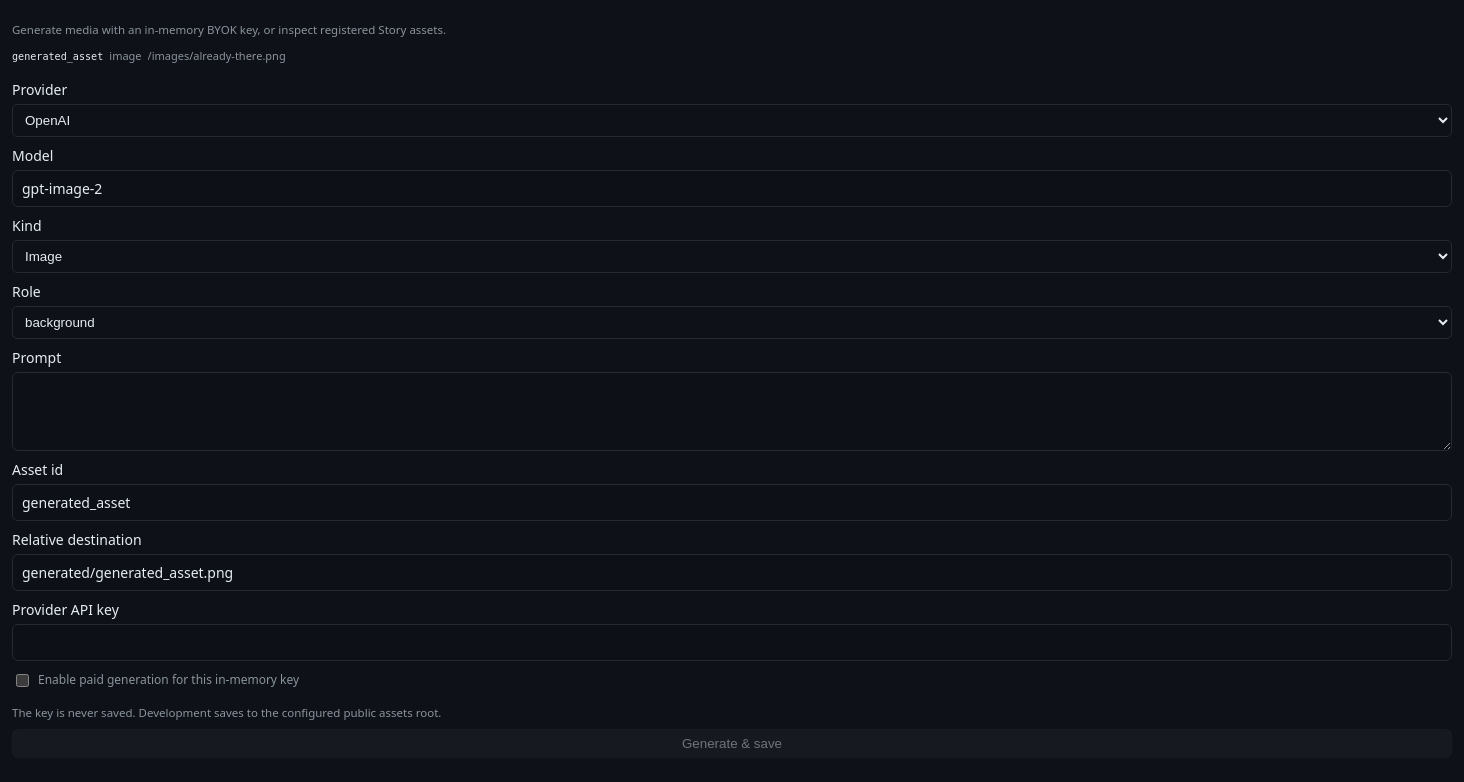
Test: asset inspector › rejects a duplicate Story asset id before human generation can reach the host
The image size is (1464, 782).
In the text box named "Asset prompt": (732, 411) [12,372,1452,451], type "a prompt"
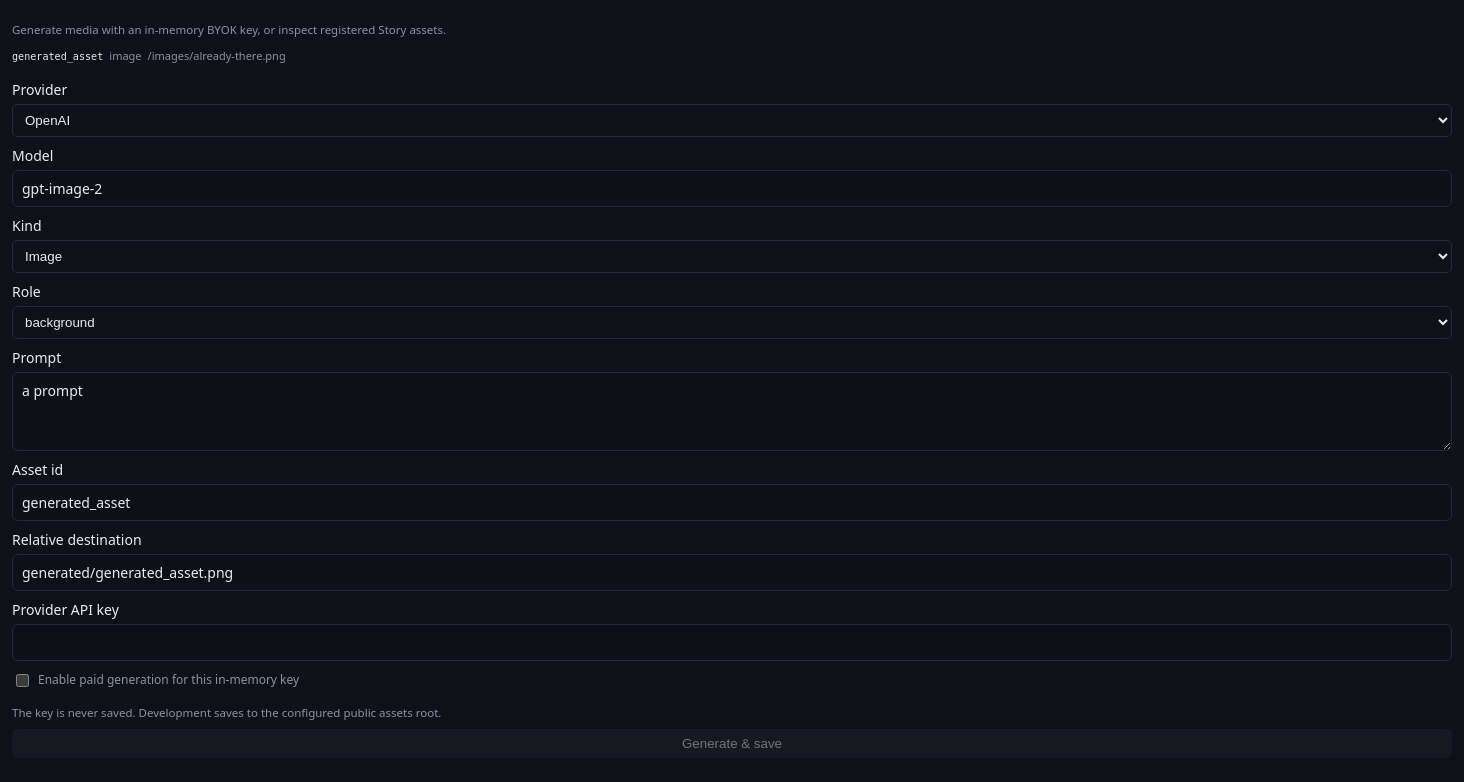
In the password field named "Asset API key": (732, 642) [12,624,1452,661], type "a key"
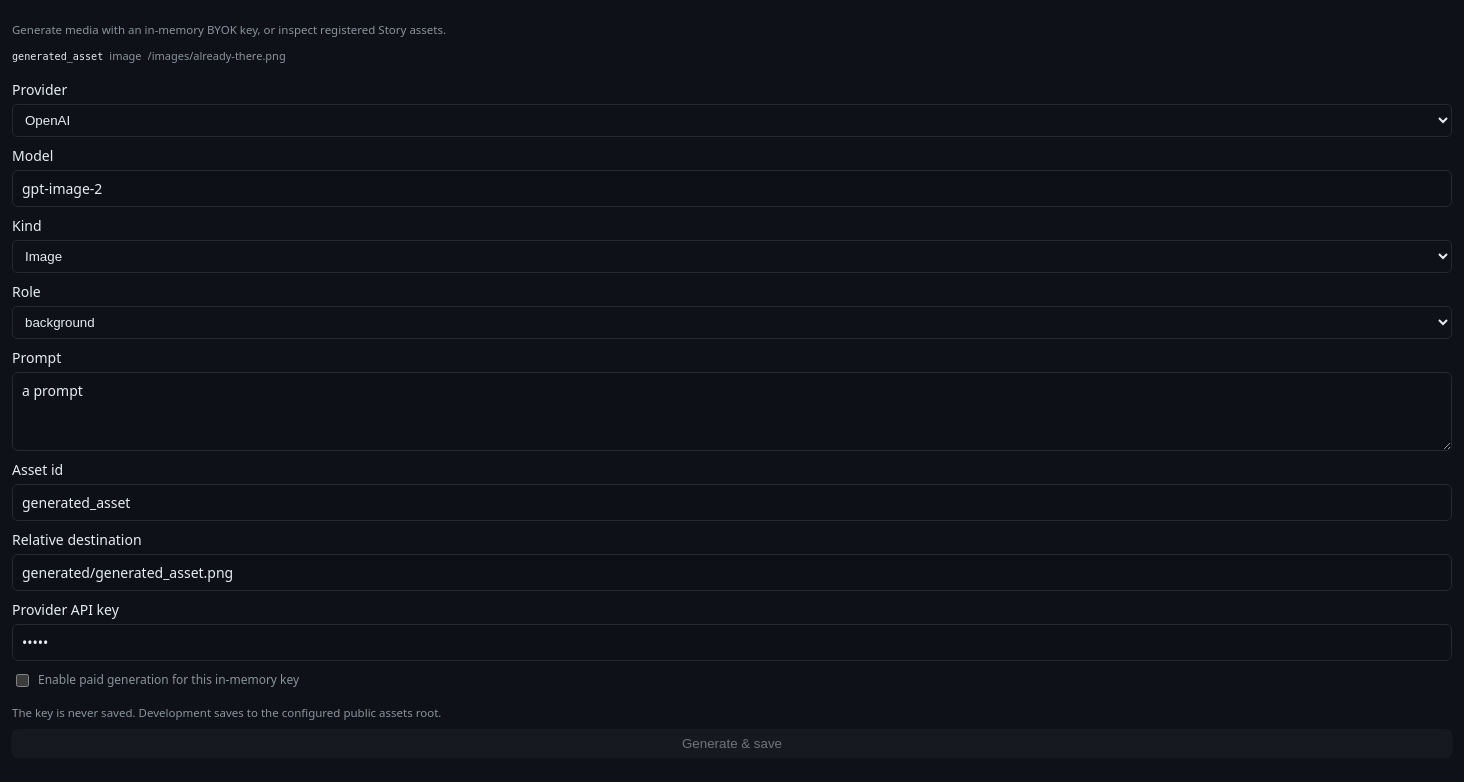
Click the checkbox named "Enable paid asset generation": (22, 680) [16,674,29,687]
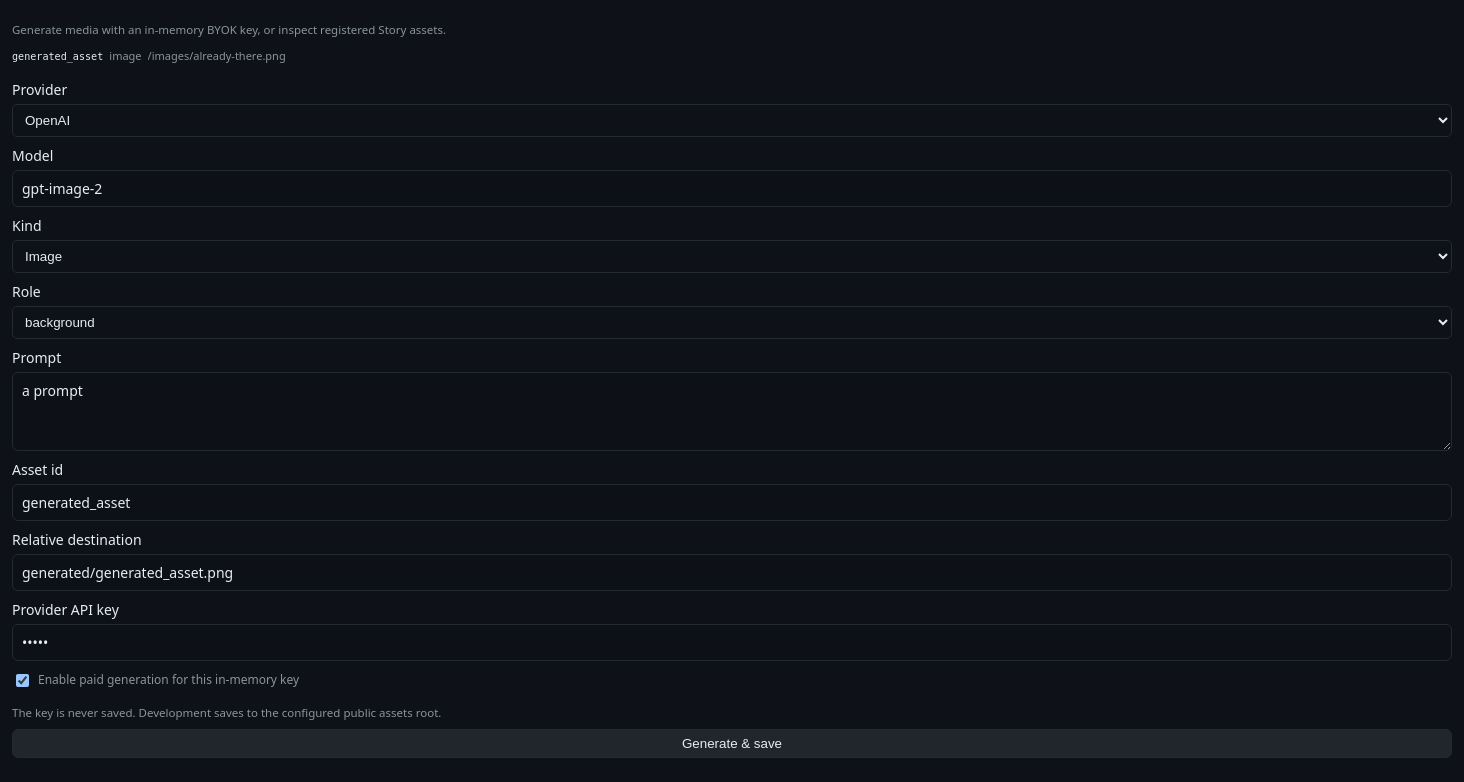
Submit the form named "Generate & save"
(page scrolled)
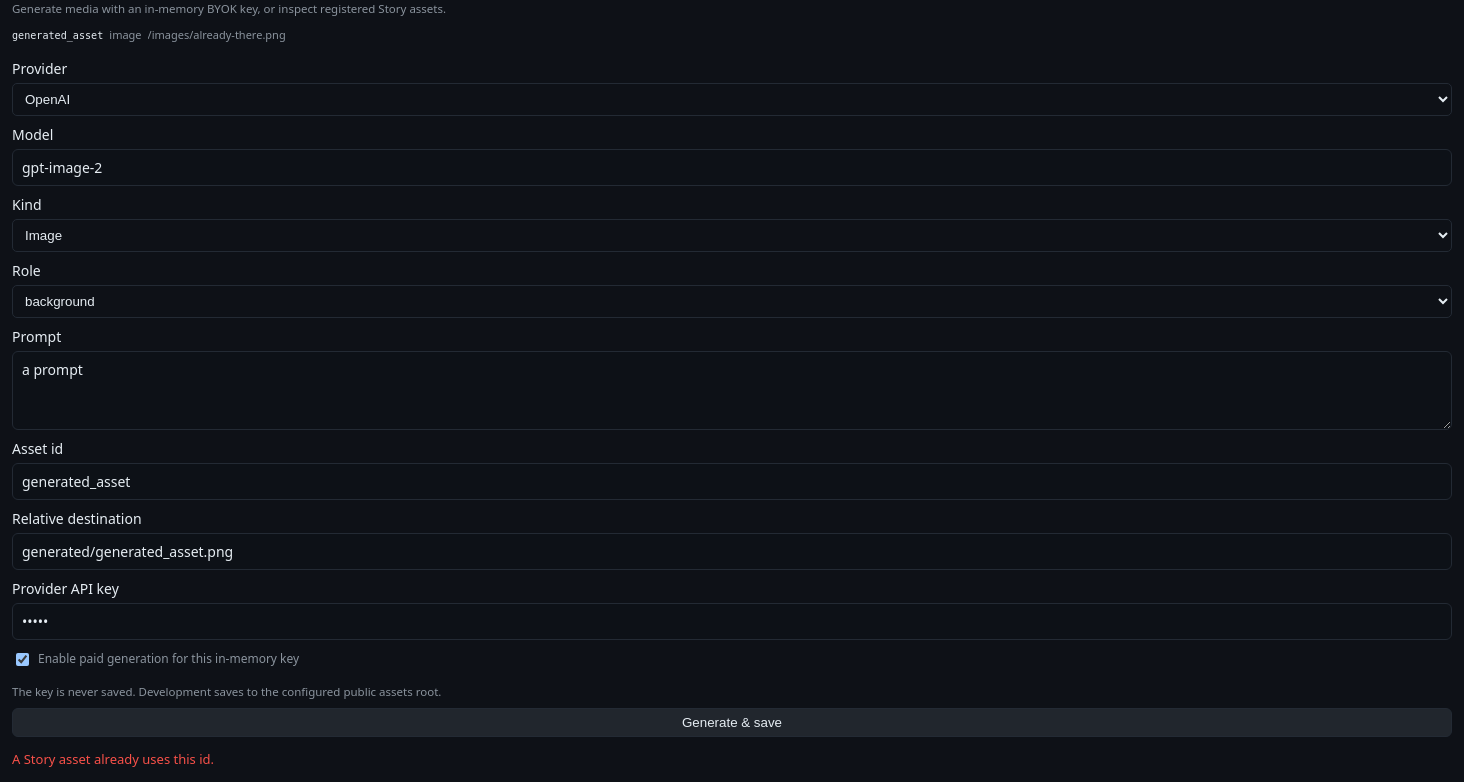
Now the text "A Story asset already uses this id." is shown, box [12,750,214,768]
